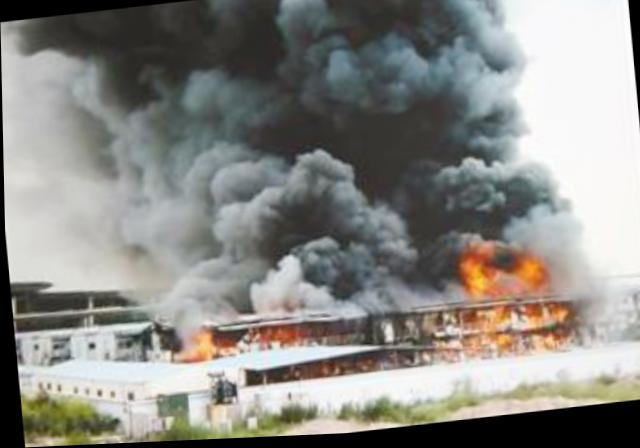fire: (462, 254, 548, 301), (193, 330, 216, 358)
